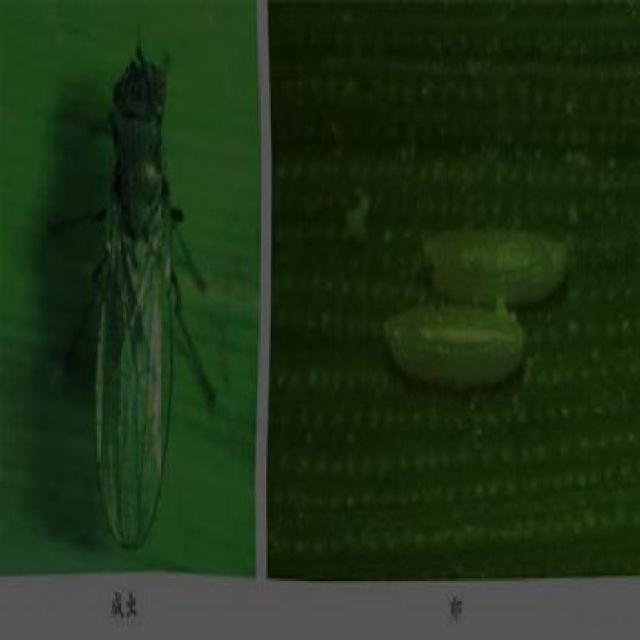whorl-maggot: (407, 209, 576, 309), (376, 298, 533, 399)
